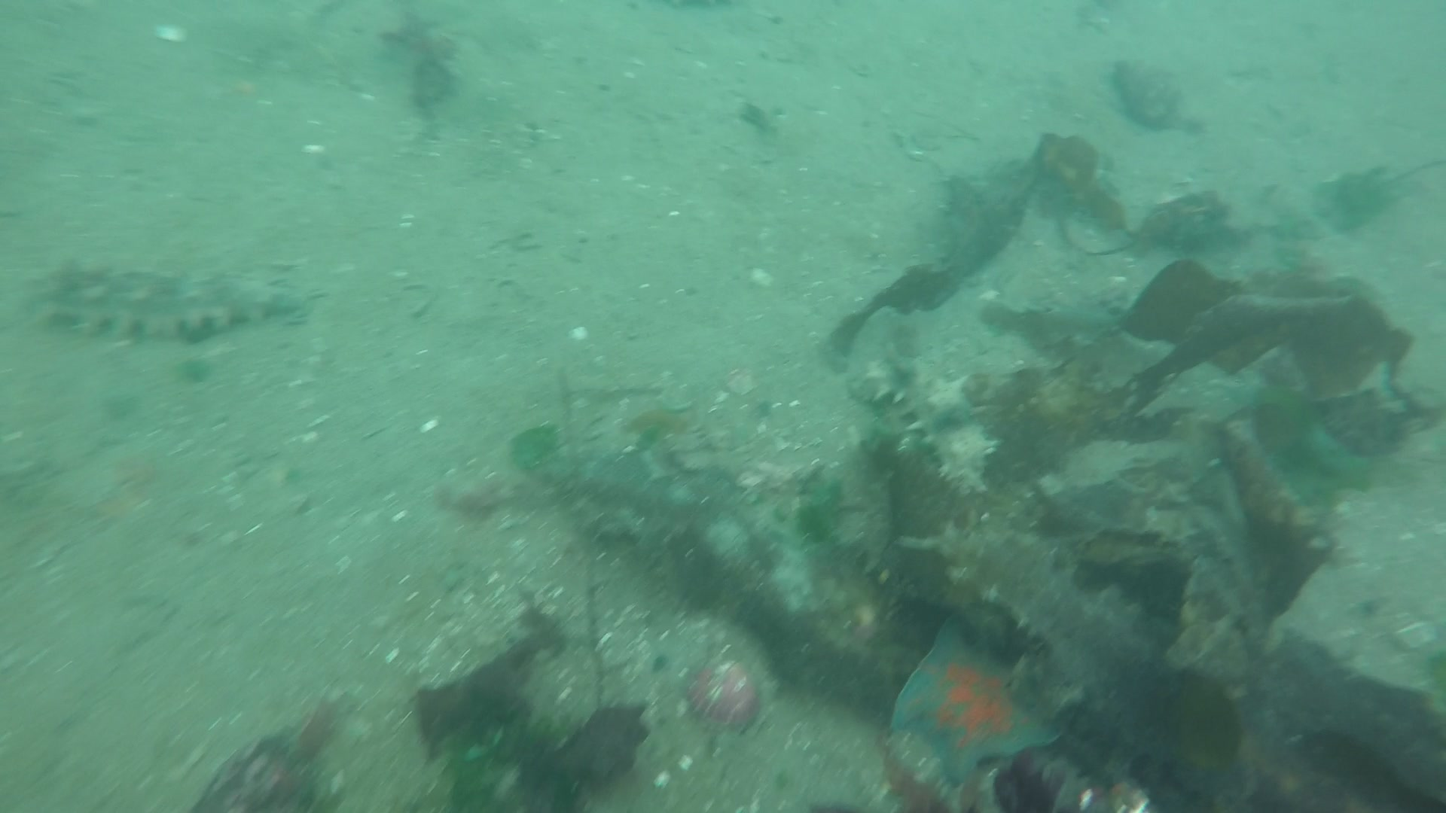echinus: (30, 255, 304, 343), (862, 359, 1002, 492)
holothurian: (892, 597, 1069, 773)
